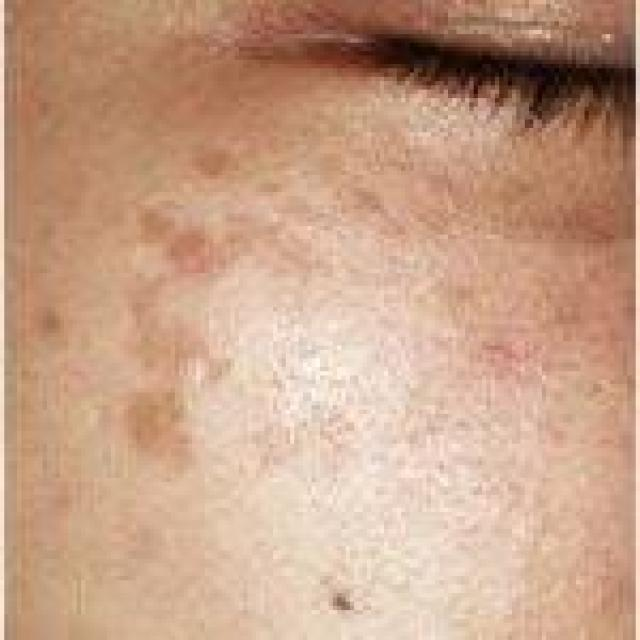pigmentation: (112, 153, 243, 458)
